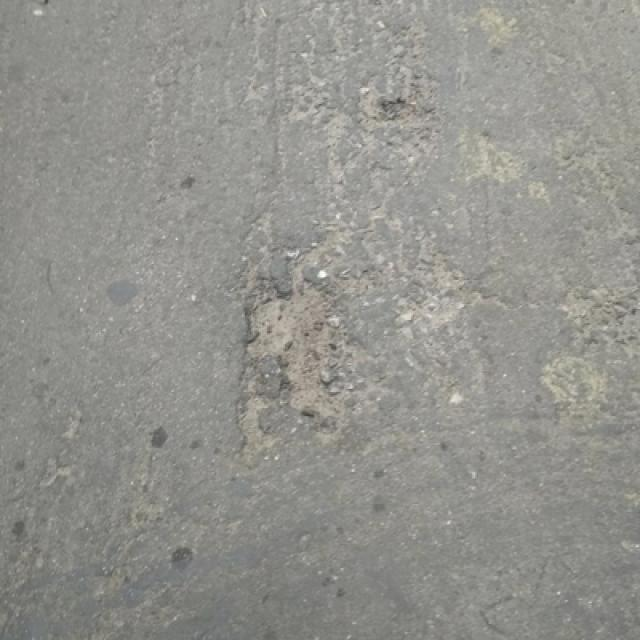Pothole: (232, 276, 370, 449), (379, 98, 432, 128)
